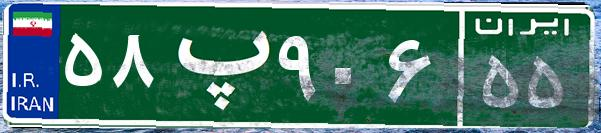0: (330, 28, 385, 110)
5: (57, 26, 110, 107), (475, 38, 525, 113), (525, 38, 570, 115)
6: (385, 28, 445, 110)
8: (110, 28, 158, 105)
9: (273, 28, 330, 110)
پ: (158, 15, 273, 115)
